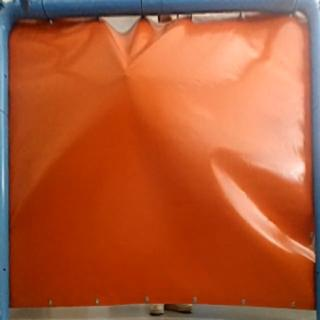Hit-hRxx: (119, 67, 130, 84)
